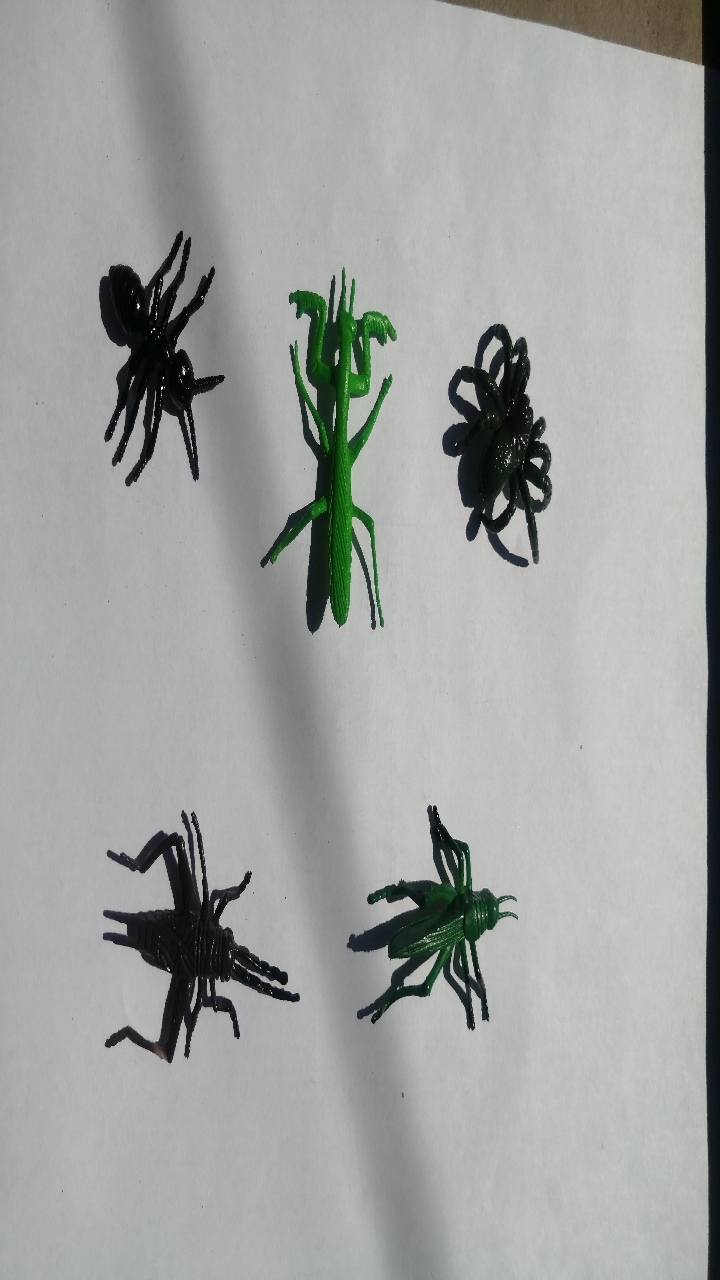intruso: (74, 792, 303, 1091), (340, 766, 538, 1051), (257, 248, 395, 651), (66, 215, 234, 495), (426, 294, 571, 579)
